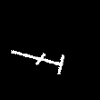double_crochet: (12, 50, 63, 73)
